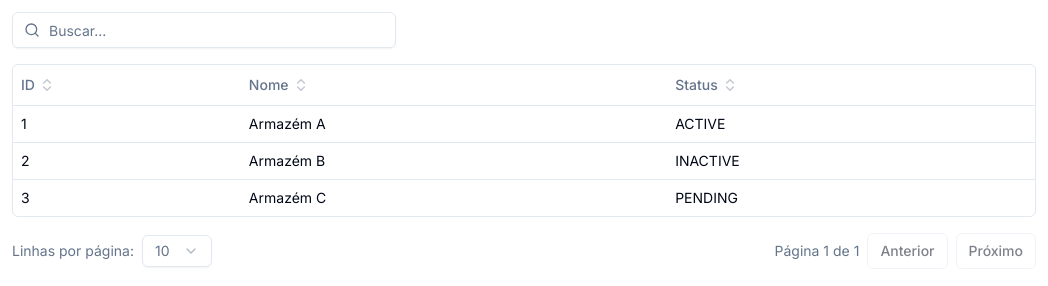
Scenario: DataTable › filtra dados pelo campo de busca
The width and height of the screenshot is (1048, 286).
Type "Armazém B" into the field with placeholder "Buscar...".
click(204, 30); type("Armazém B")  # box [12,12,396,48]
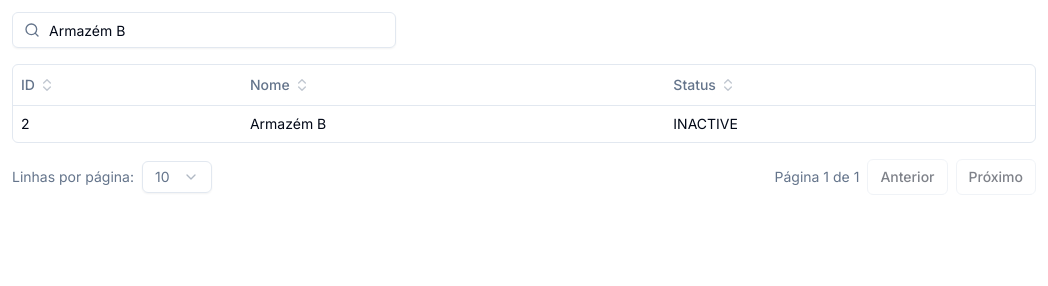
Expected: the text "Armazém B" is shown, [242,105,665,142]
Result: the text "Armazém A" is gone
